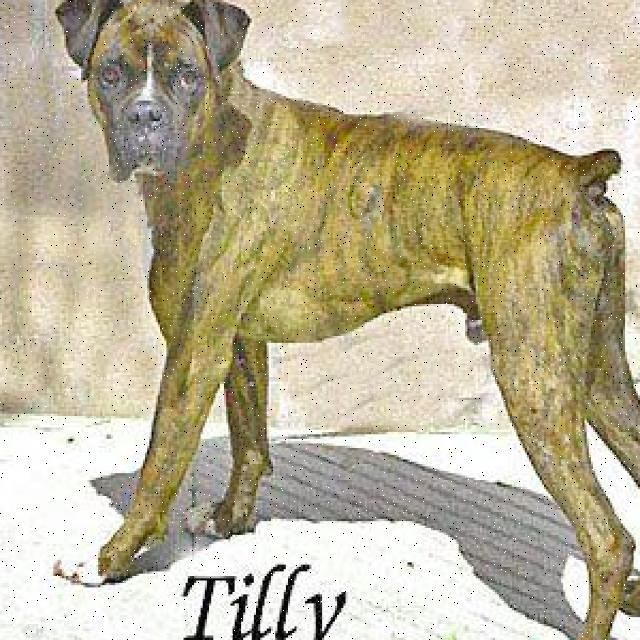Dog: (53, 0, 256, 190)
